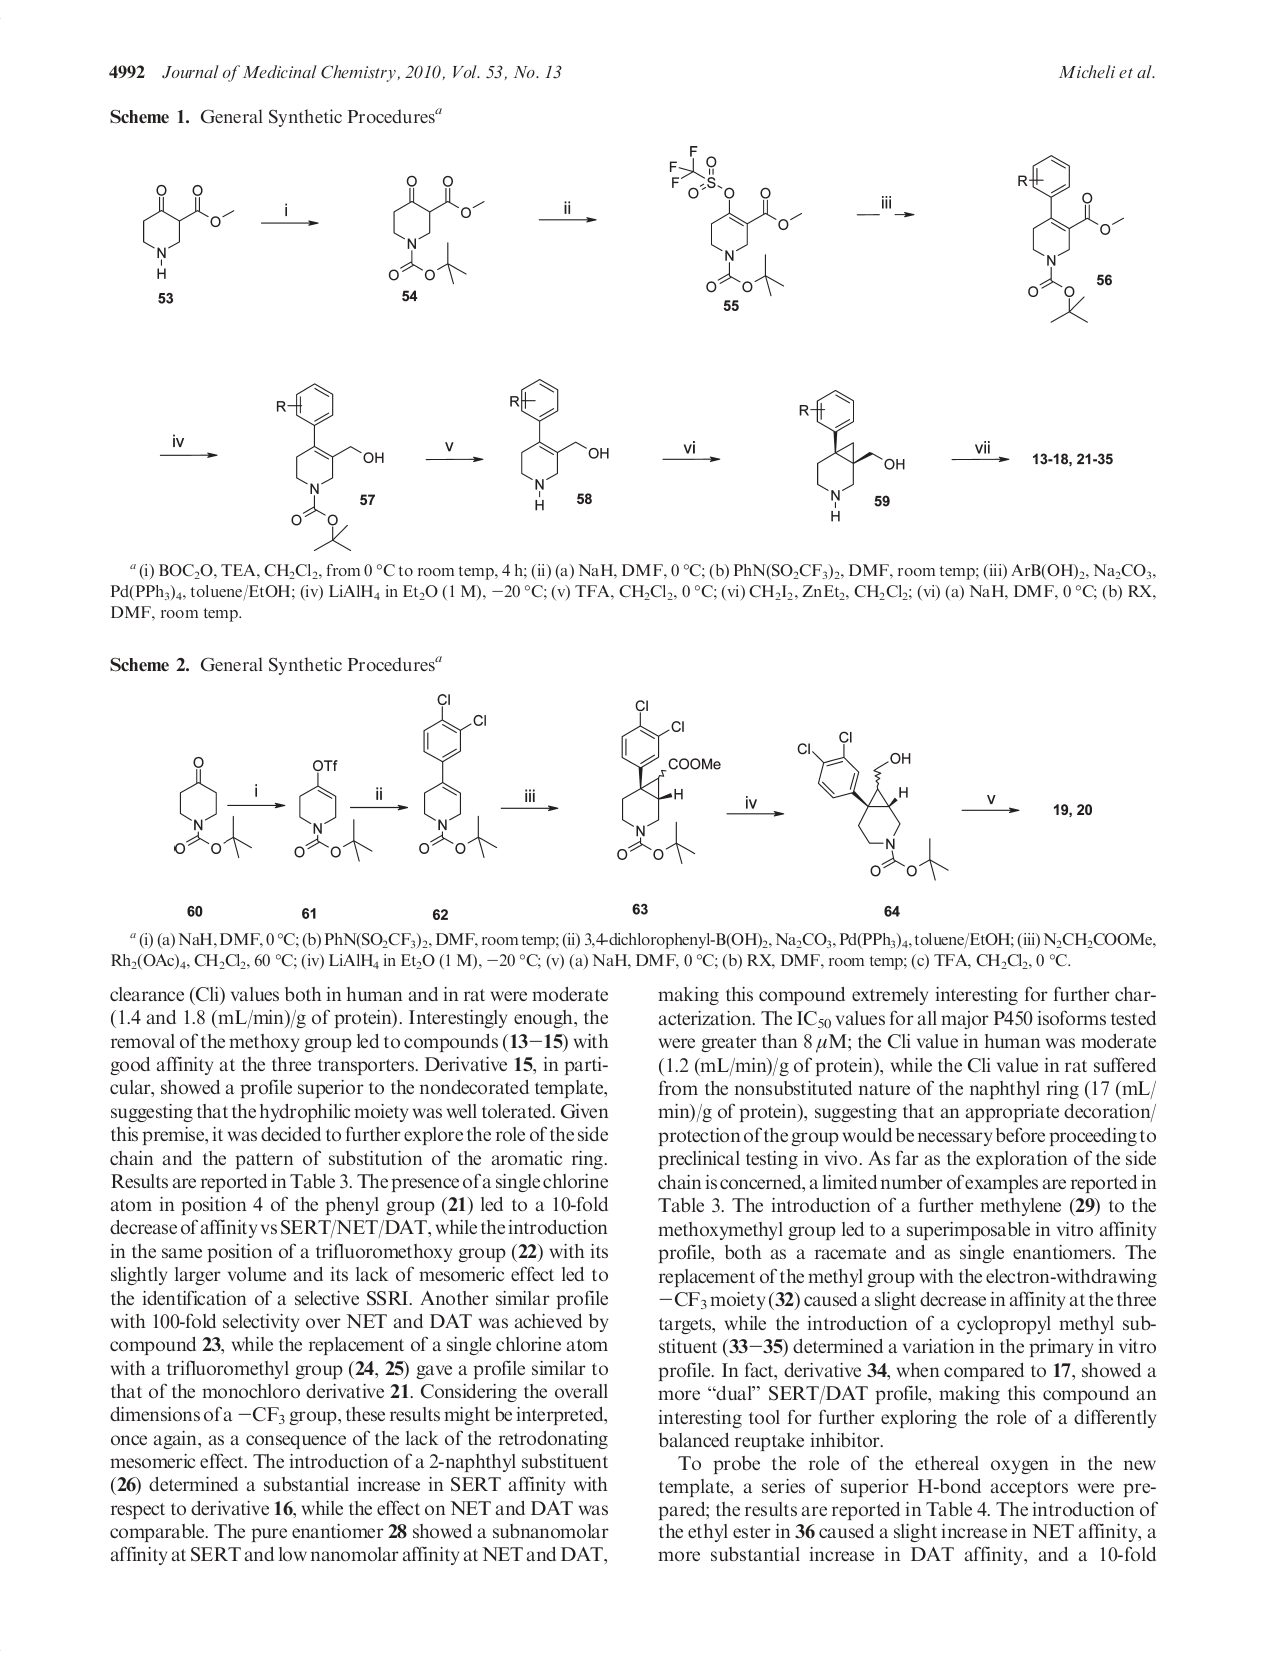exist_molecular: (797, 726, 953, 882), (664, 145, 803, 295), (273, 380, 390, 553), (1016, 152, 1126, 323), (608, 698, 722, 862), (797, 387, 907, 523), (508, 376, 612, 515), (412, 692, 497, 859), (376, 173, 488, 285), (144, 181, 239, 285), (286, 758, 380, 863), (172, 755, 251, 859)
